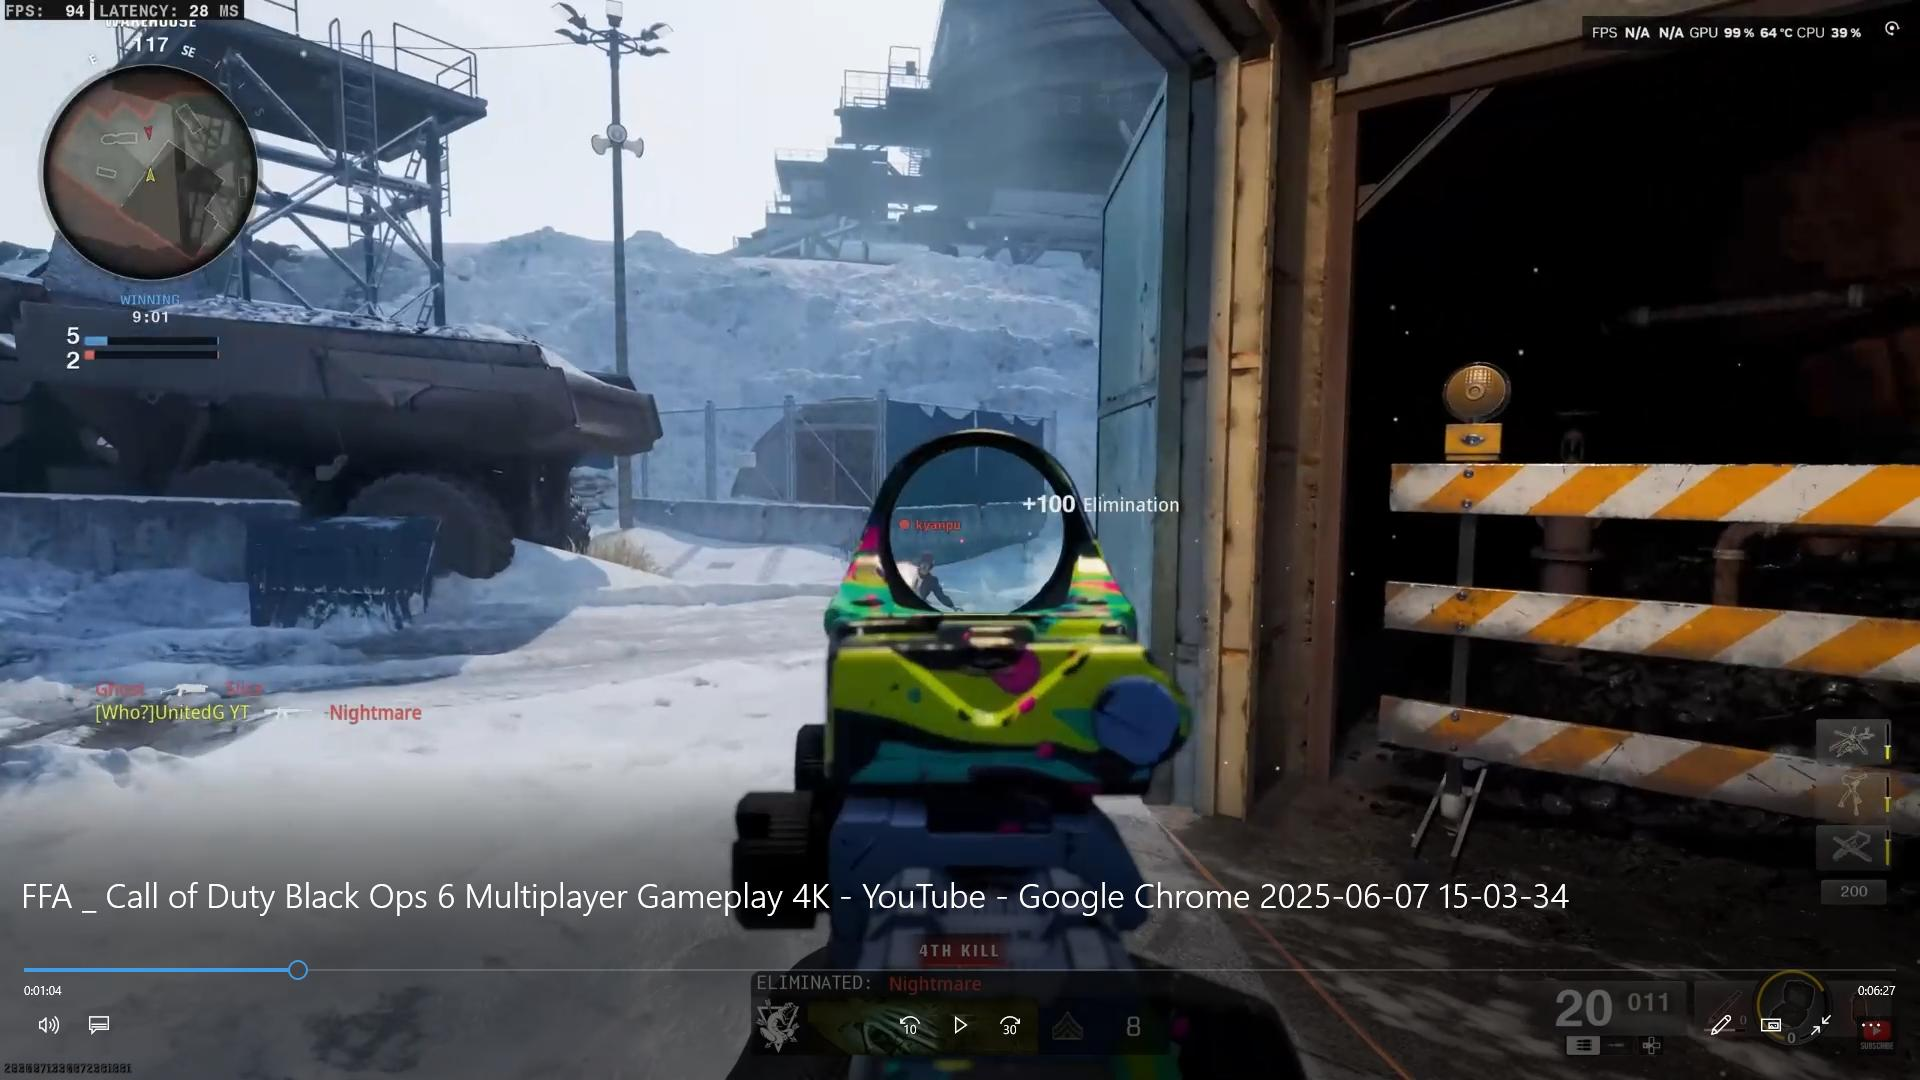Enemy: (891, 535, 965, 613)
